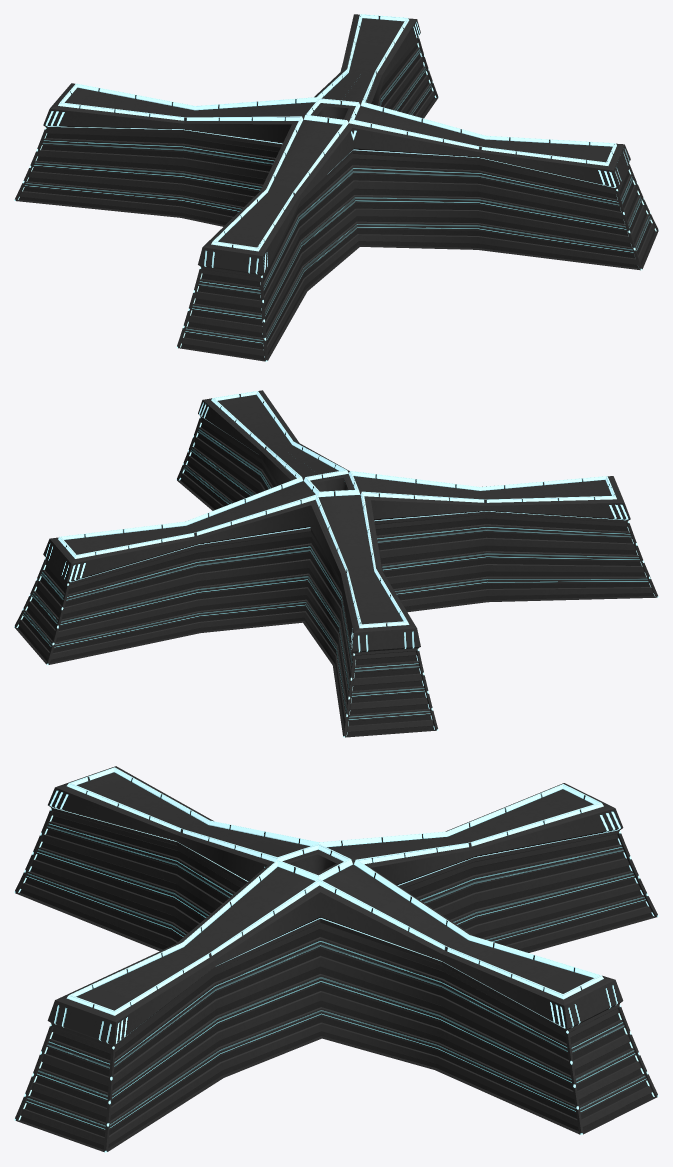
File: bldg_bOw-X2_000.FBX
The picture shows the model from 3 angles, top to bottom: view 1: azimuth 30°, elevation 25°; view 2: azimuth 150°, elevation 25°; view 3: azimuth 270°, elevation 25°; orthographic projection. The views are drawn at different scales.
Parts seen in each view (by area): view 1: bldg_bow-X2_00; view 2: bldg_bow-X2_00; view 3: bldg_bow-X2_00.
Boxes of the visible parts, x1,y1,x2,y2 form: bldg_bow-X2_00: [14, 14, 658, 361]; bldg_bow-X2_00: [14, 390, 658, 737]; bldg_bow-X2_00: [14, 766, 658, 1152].
Bounding box in the file's own units: 274 × 64.46 × 255.
1 material, 1 textured.
